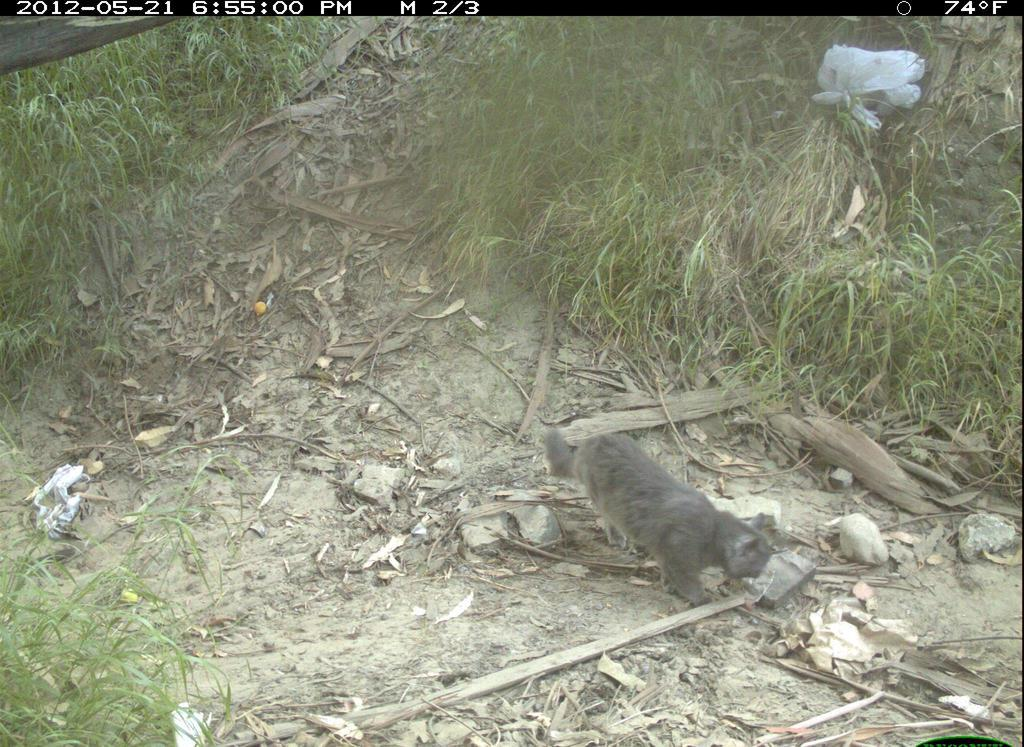cat: (534, 399, 789, 630)
